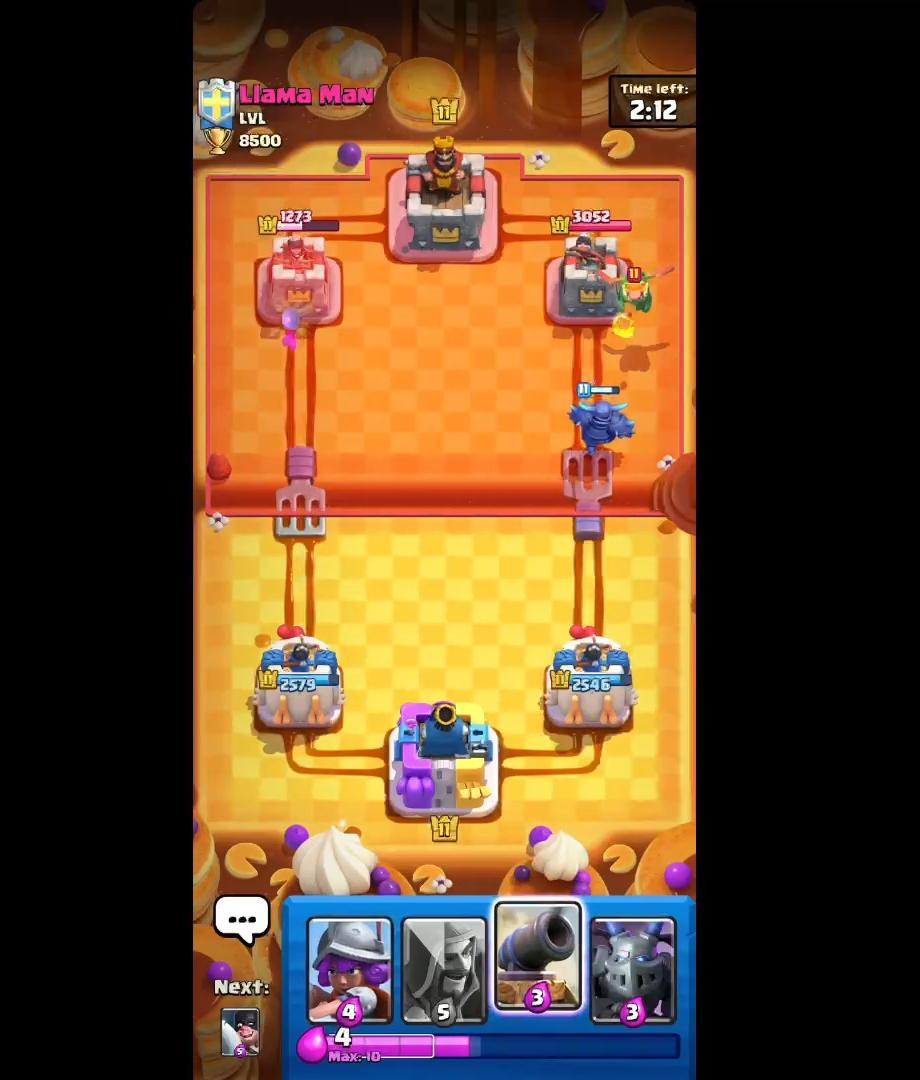Baby Dragon: (616, 260, 665, 325)
